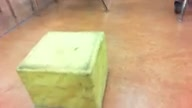cube: (16, 31, 109, 108)
